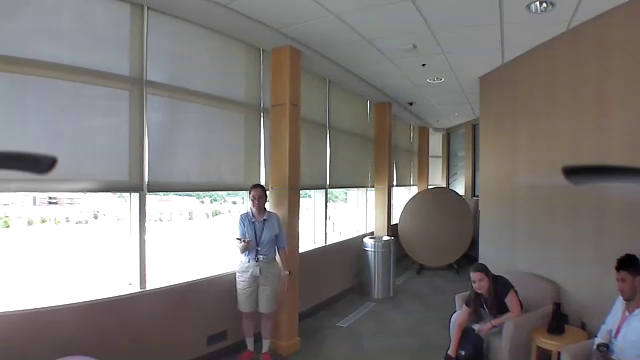land: (233, 233, 257, 248)
